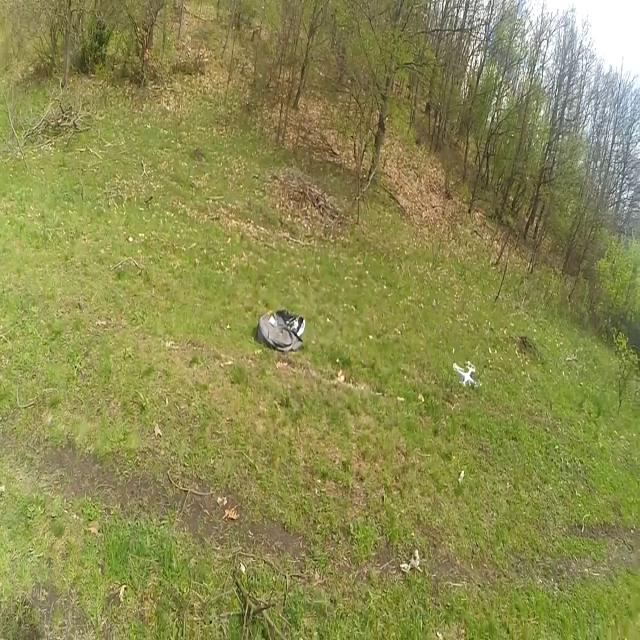drones: (446, 348, 482, 400)
